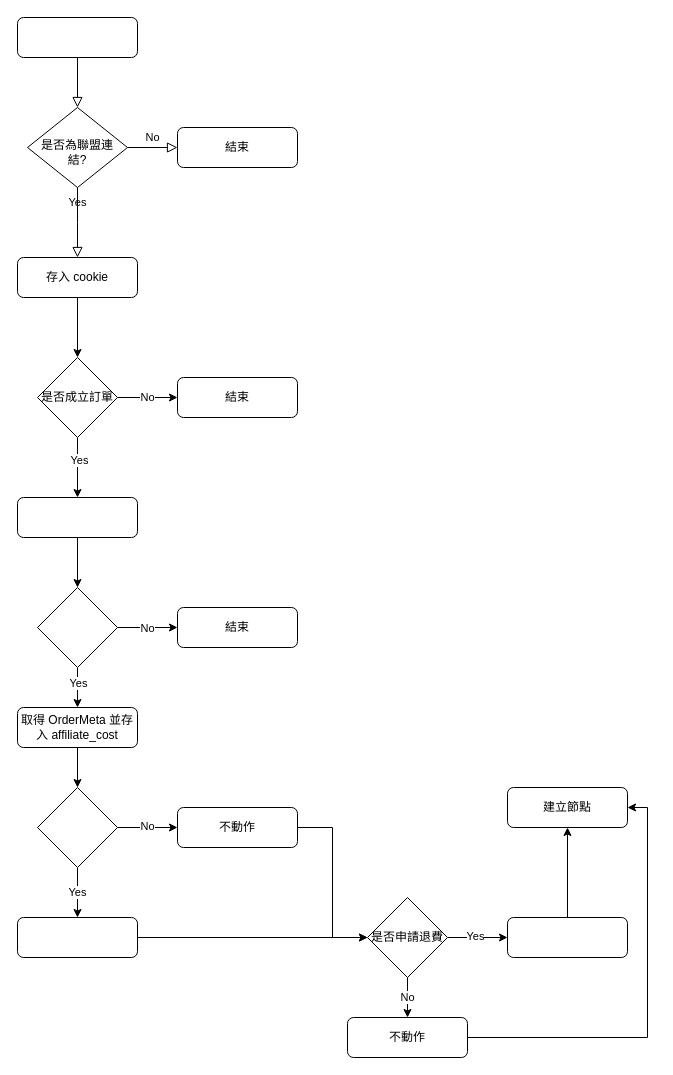
Image size: 673x1075. Some labels were removed from this diagram. The centre of each missing label's shape, as x and y in pixels:
call API: point (77, 937)
使用者點擊連結: point (77, 37)
存入 OrderMeta: point (77, 517)
存入一筆 refund 至 affiliate_cost: point (567, 937)
是否 call API: point (77, 827)
是否完成訂單: point (77, 627)
